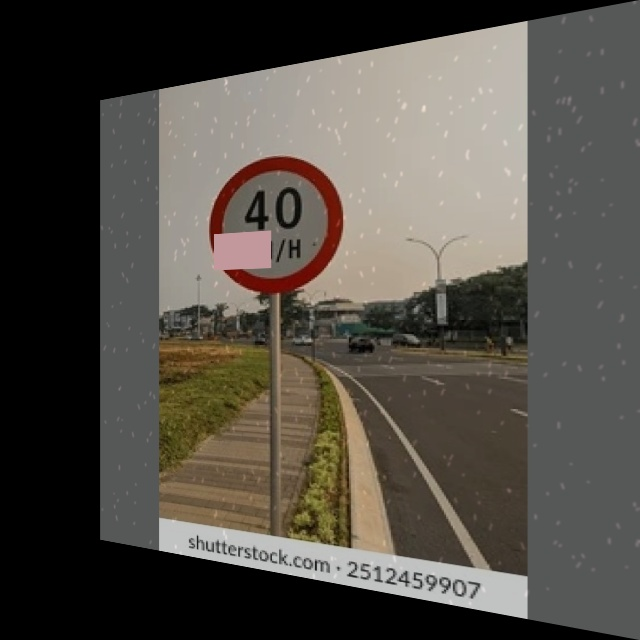Speed_Limit_40: (213, 146, 344, 293)
